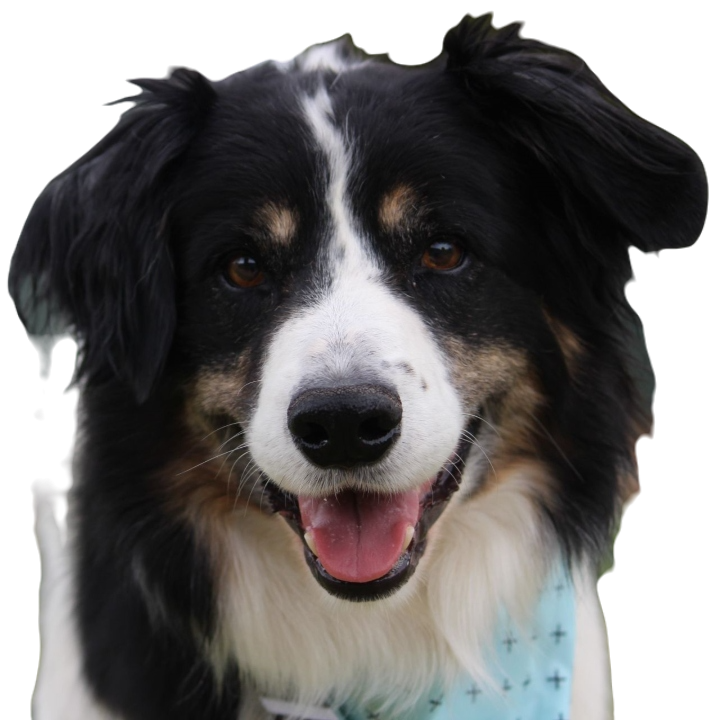Dog: (7, 18, 711, 719)
